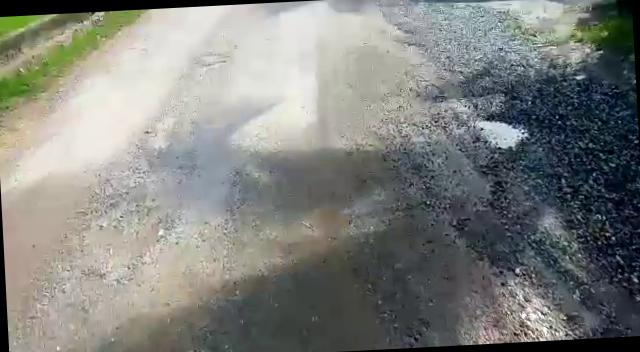pothole: (477, 114, 532, 150)
